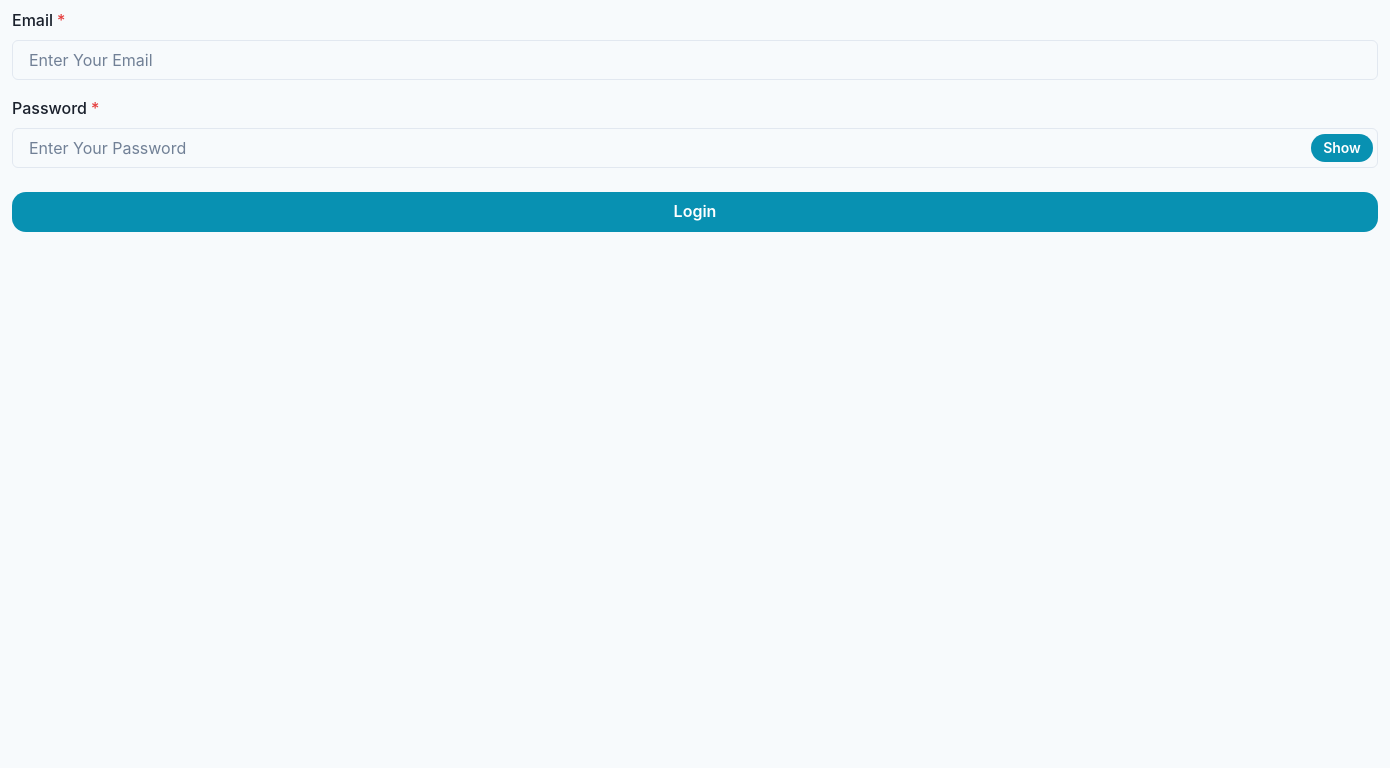
Scenario: Login › submits normalized credentials and stores the authenticated user
Type "Alice@Example.com" into the field labelled "Email*". click: (695, 60)
box: [12,40,1378,80]
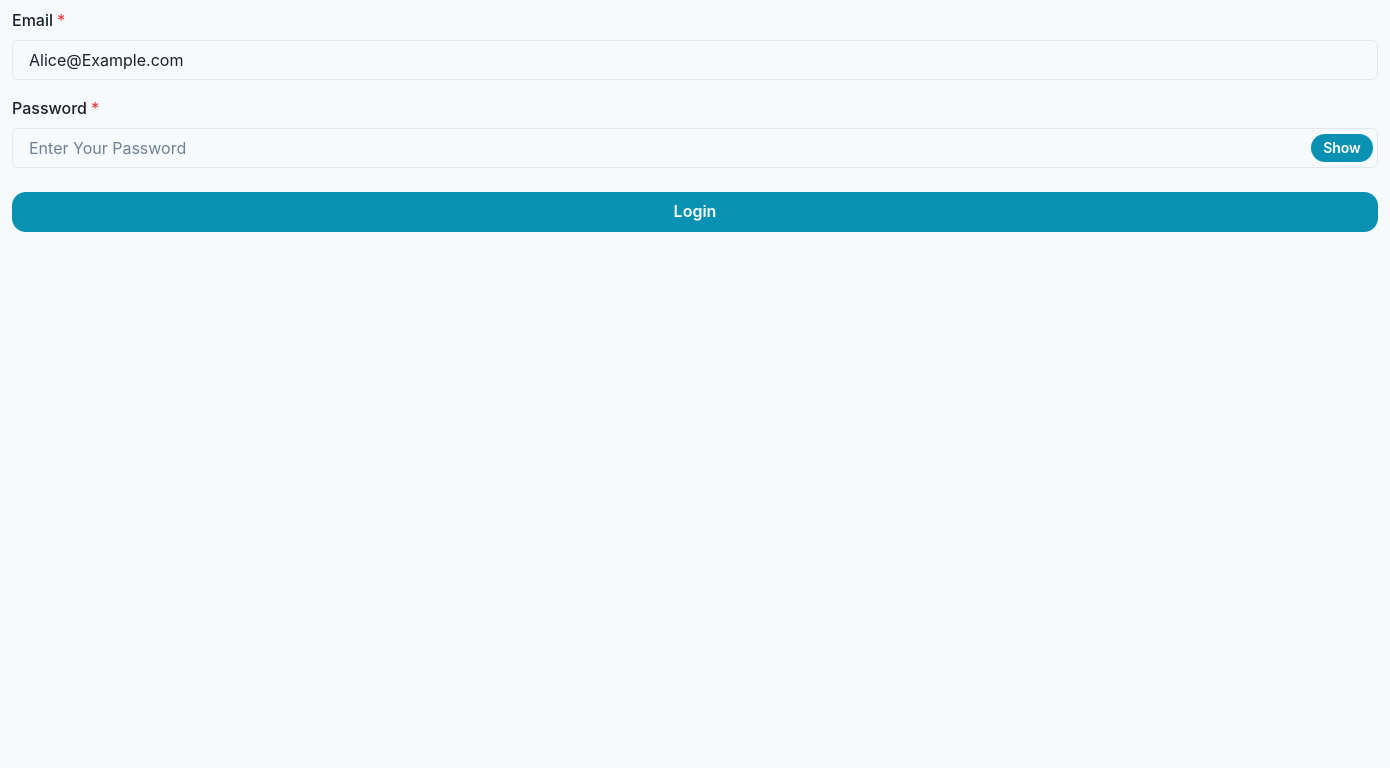
Type "Password123!" into the password field labelled "Password*". click: (695, 148)
box: [12,128,1378,168]
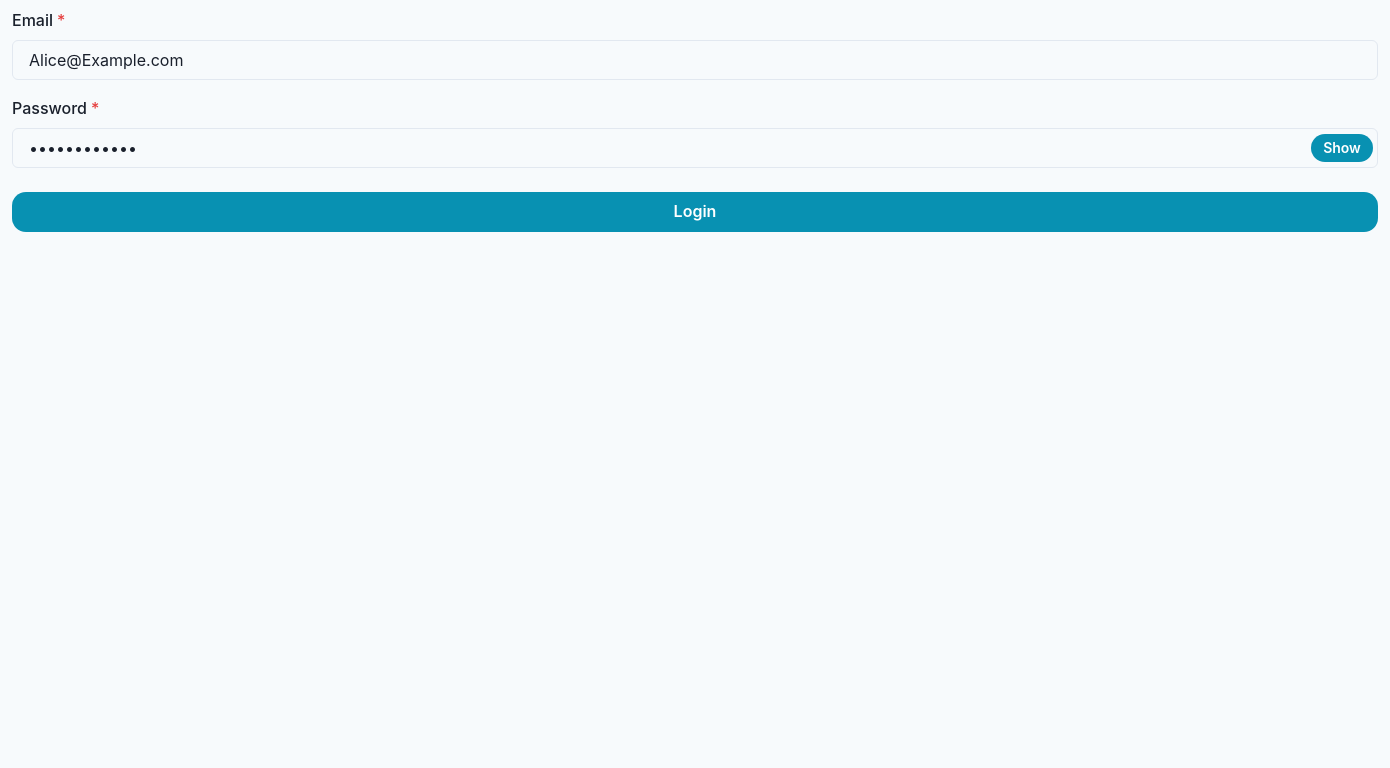
Click the button "Login". click: click(695, 212)
box: [12,192,1378,232]
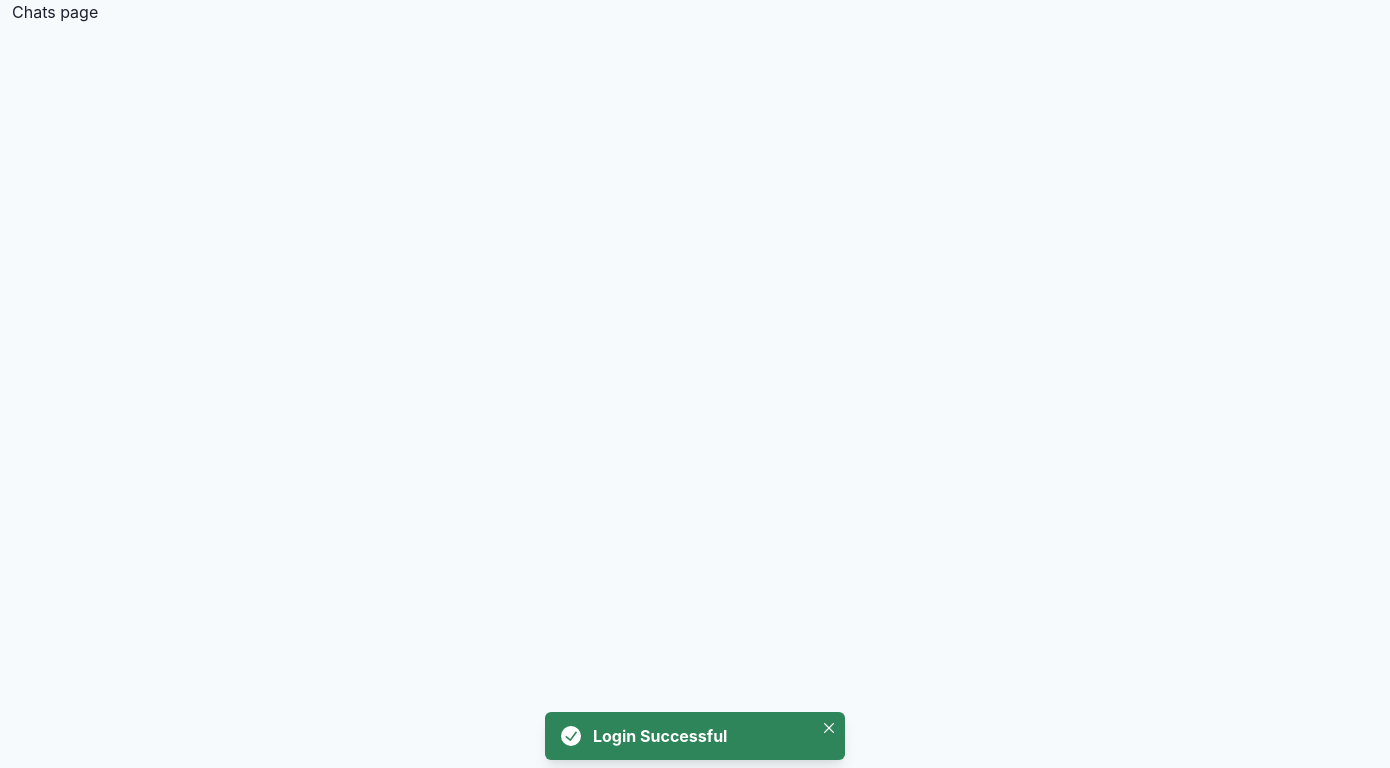
Now the text "Chats page" is shown, box [12,2,98,22]
